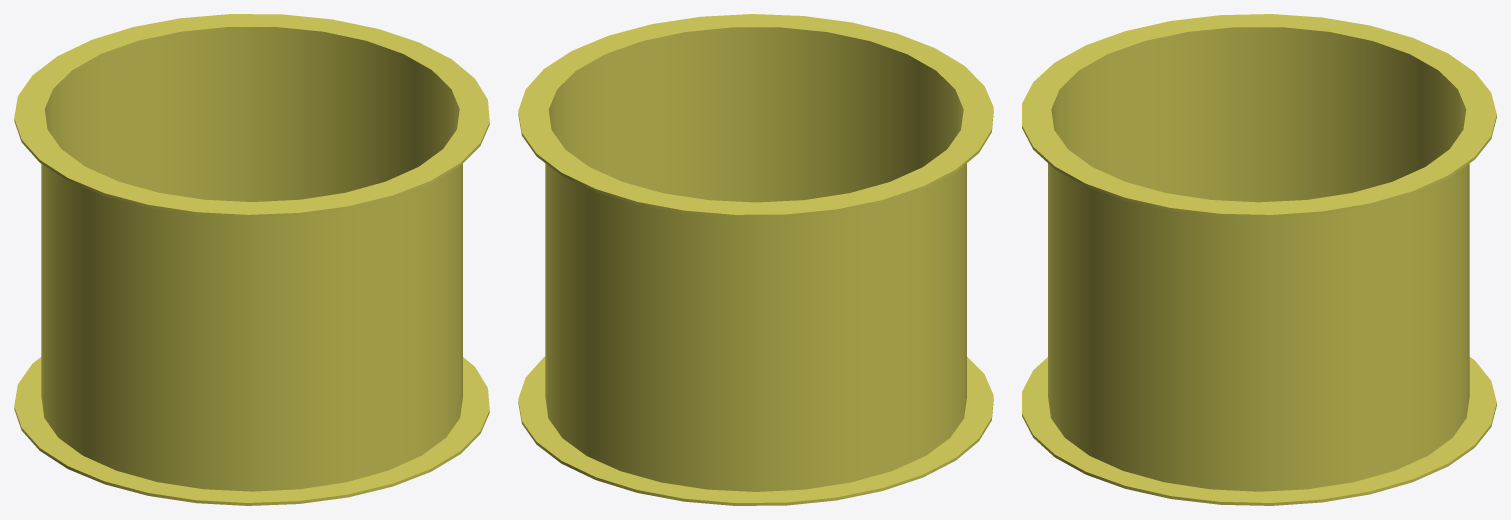
The model's file is model-straight-59_updated.fbx.
The picture shows the model from 3 angles, left to right: view 1: azimuth 30°, elevation 25°; view 2: azimuth 150°, elevation 25°; view 3: azimuth 270°, elevation 25°; orthographic projection.
Visible parts, largest first — view 1: RŤr-lige-590 simple; view 2: RŤr-lige-590 simple; view 3: RŤr-lige-590 simple.
Part boxes in pixels (<box>): RŤr-lige-590 simple: <box>14,14,489,505</box>; RŤr-lige-590 simple: <box>518,14,993,505</box>; RŤr-lige-590 simple: <box>1022,14,1496,505</box>.
Size of the model in its own units: 87.87 by 59.33 by 87.74.
